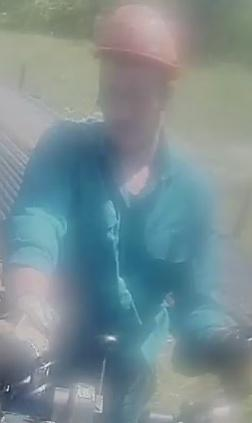gloves: (0, 282, 60, 388), (204, 318, 252, 396)
helmet: (90, 4, 184, 79)
vest: (1, 119, 187, 374)
